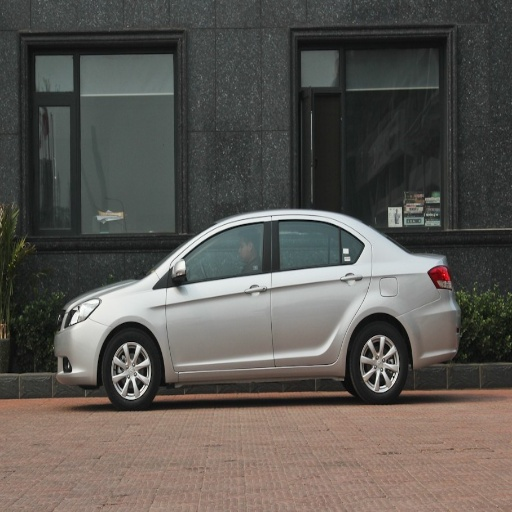back_bumper: (407, 291, 458, 368)
back_left_door: (274, 218, 370, 364)
front_left_door: (166, 219, 274, 371)
